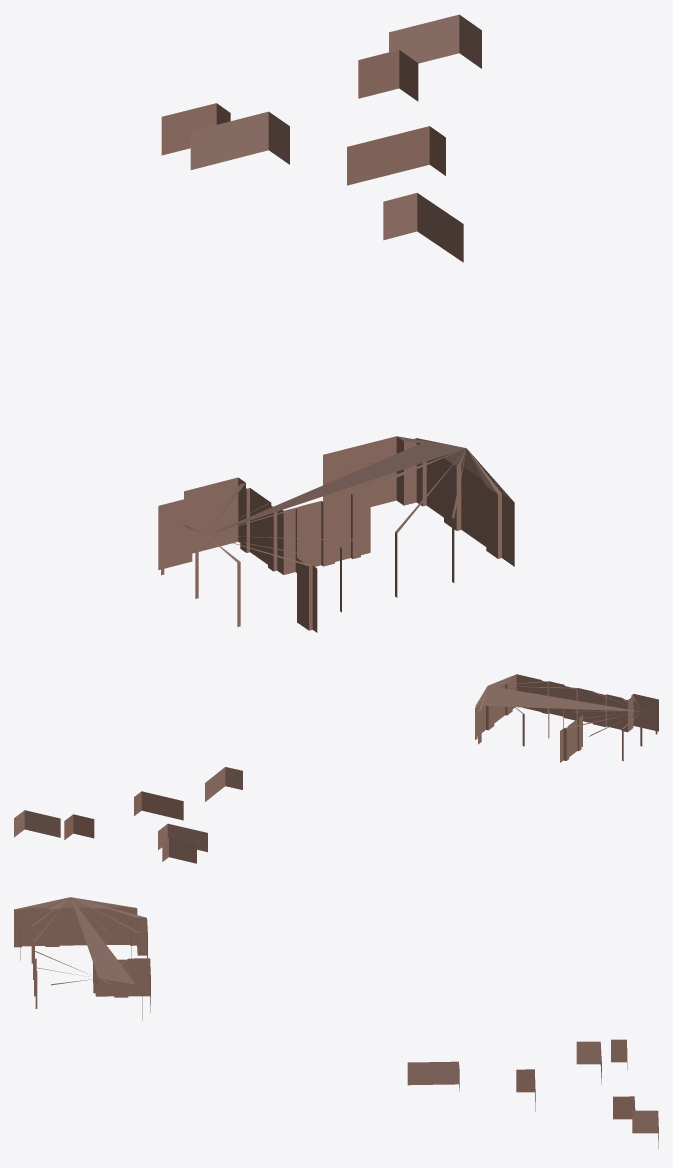
File: c_1635_17822_buildings_residential.glb
The picture shows the model from 3 angles, top to bottom: view 1: azimuth 30°, elevation 25°; view 2: azimuth 150°, elevation 25°; view 3: azimuth 270°, elevation 25°; orthographic projection. The views are drawn at different scales.
Visible parts, largest first — view 1: geometry_0; view 2: geometry_0; view 3: geometry_0.
Boxes of the visible parts, box(x1,y1,x2,y2) form: geometry_0: box(158, 14, 514, 632); geometry_0: box(14, 674, 658, 863); geometry_0: box(14, 897, 658, 1148).
Bounding box in the file's own units: 194 × 19.3 × 244.
